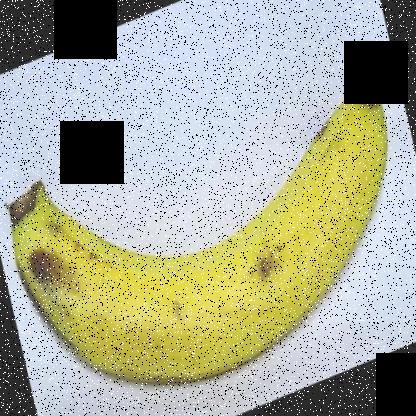freshripe: (1, 80, 399, 399)
